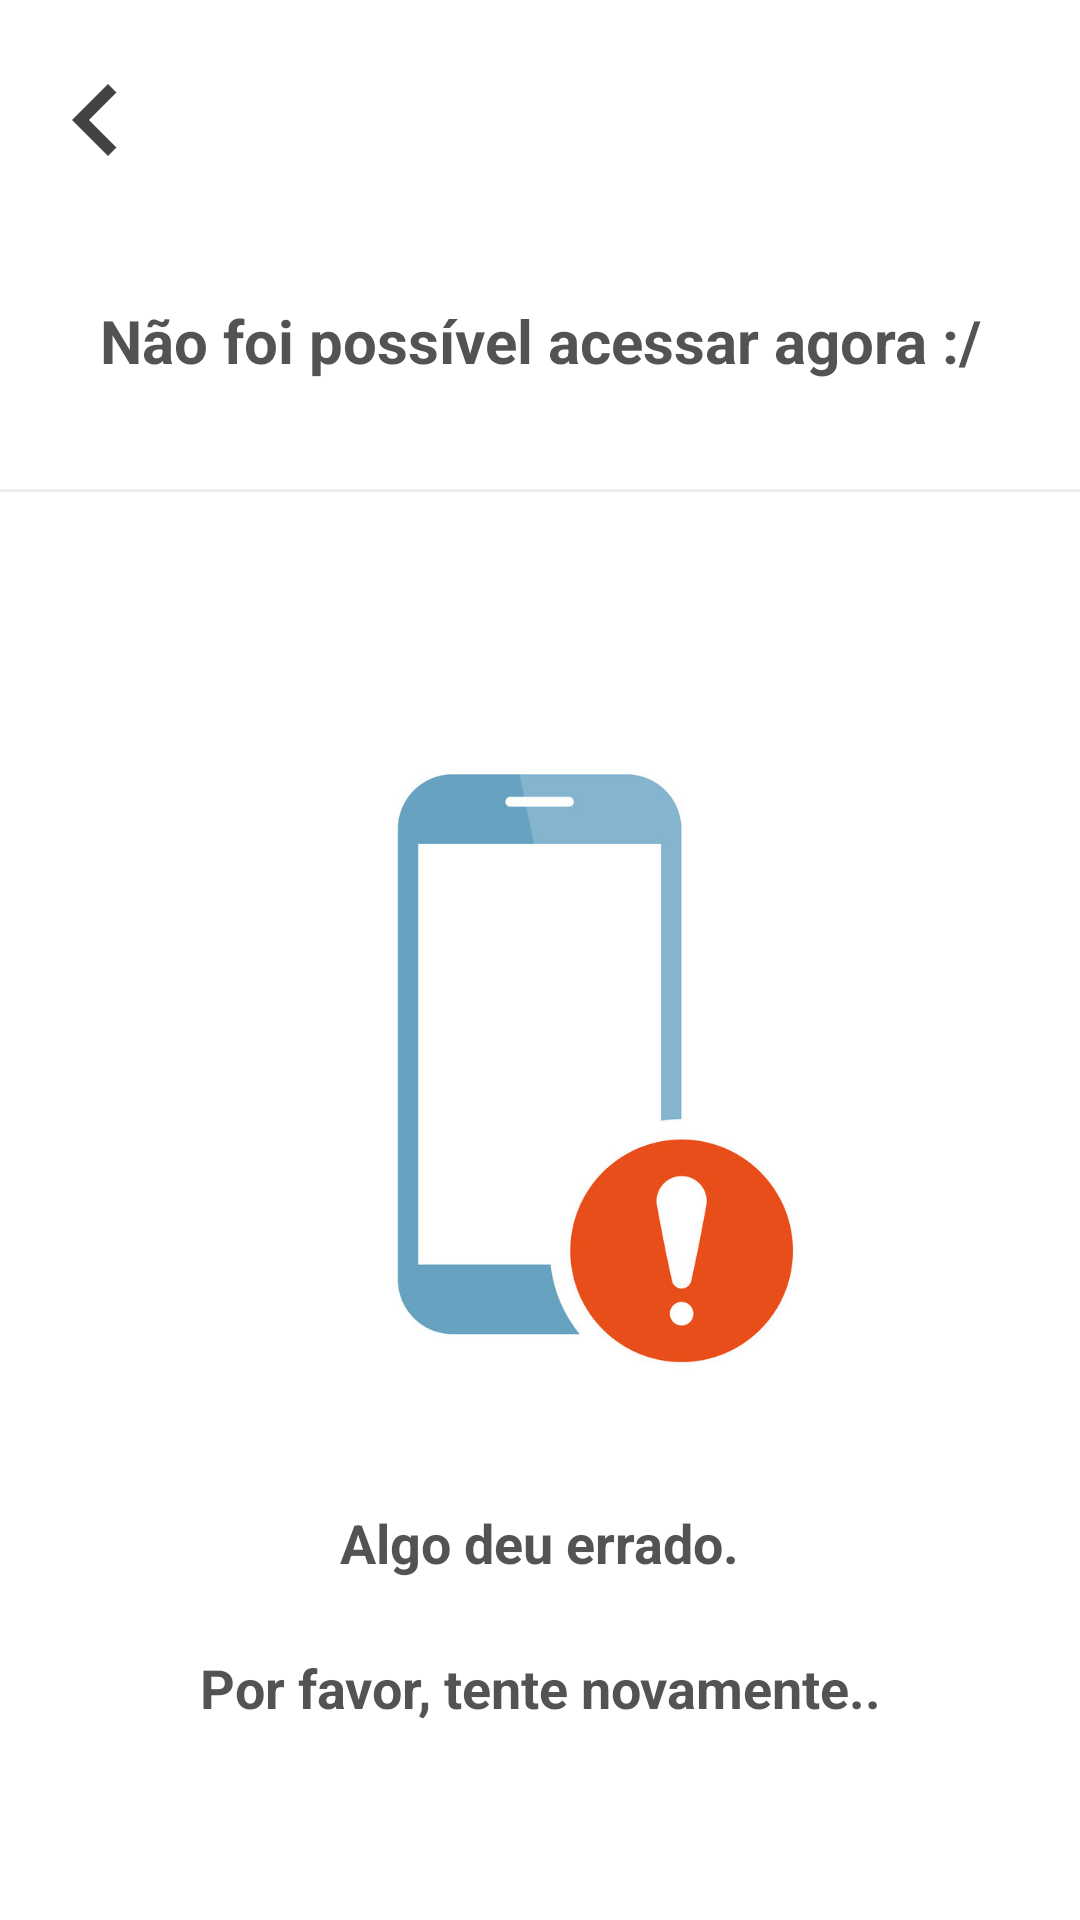

Named icons in this screenshot (1080w x 1920h) and their bounding boxes, (x1=x1, y1=y1, x2=x2, y2=y2):
botão voltar: (x1=72, y1=84, x2=117, y2=156)
